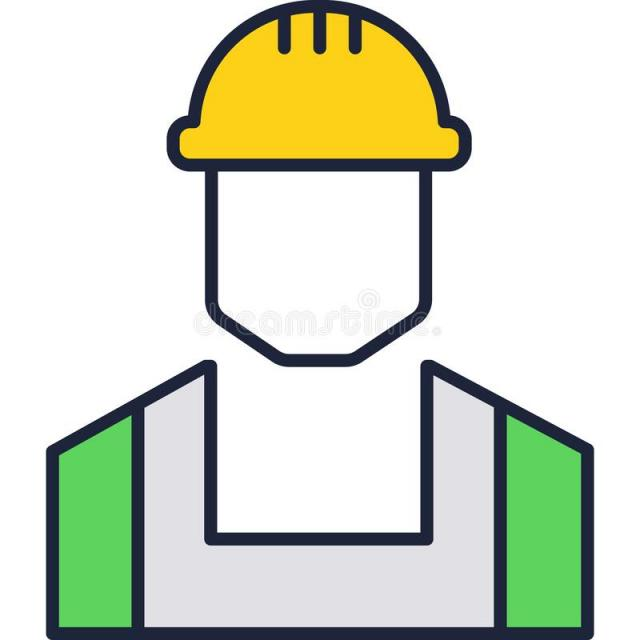Safety-Helmet: (170, 6, 474, 170)
